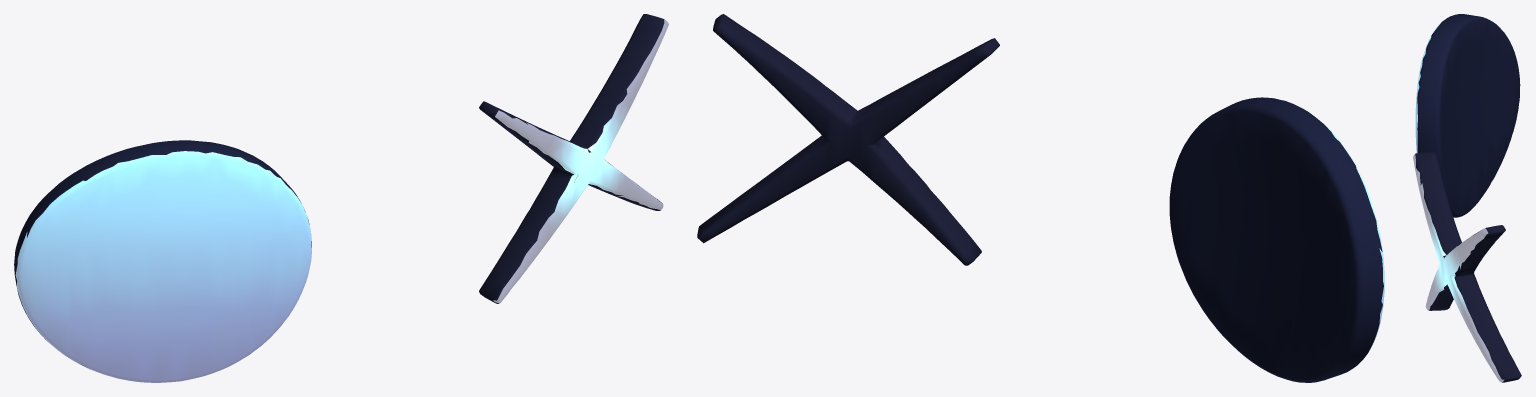
Rendered from eyes-wink.glb.
3 views of the same model, side by side, from view 1: azimuth 30°, elevation 25°; view 2: azimuth 150°, elevation 25°; view 3: azimuth 270°, elevation 25° (orthographic). The views are drawn at different scales.
Parts seen in each view (by area): view 1: eyes-wink; view 2: eyes-wink; view 3: eyes-wink.
Boxes of the visible parts, left/top/right/bottom form: eyes-wink: left=14, top=14, right=668, bottom=382; eyes-wink: left=697, top=14, right=1384, bottom=382; eyes-wink: left=1413, top=14, right=1521, bottom=382.
Size of the model in its own units: 0.4814 by 0.1699 by 0.0924.
